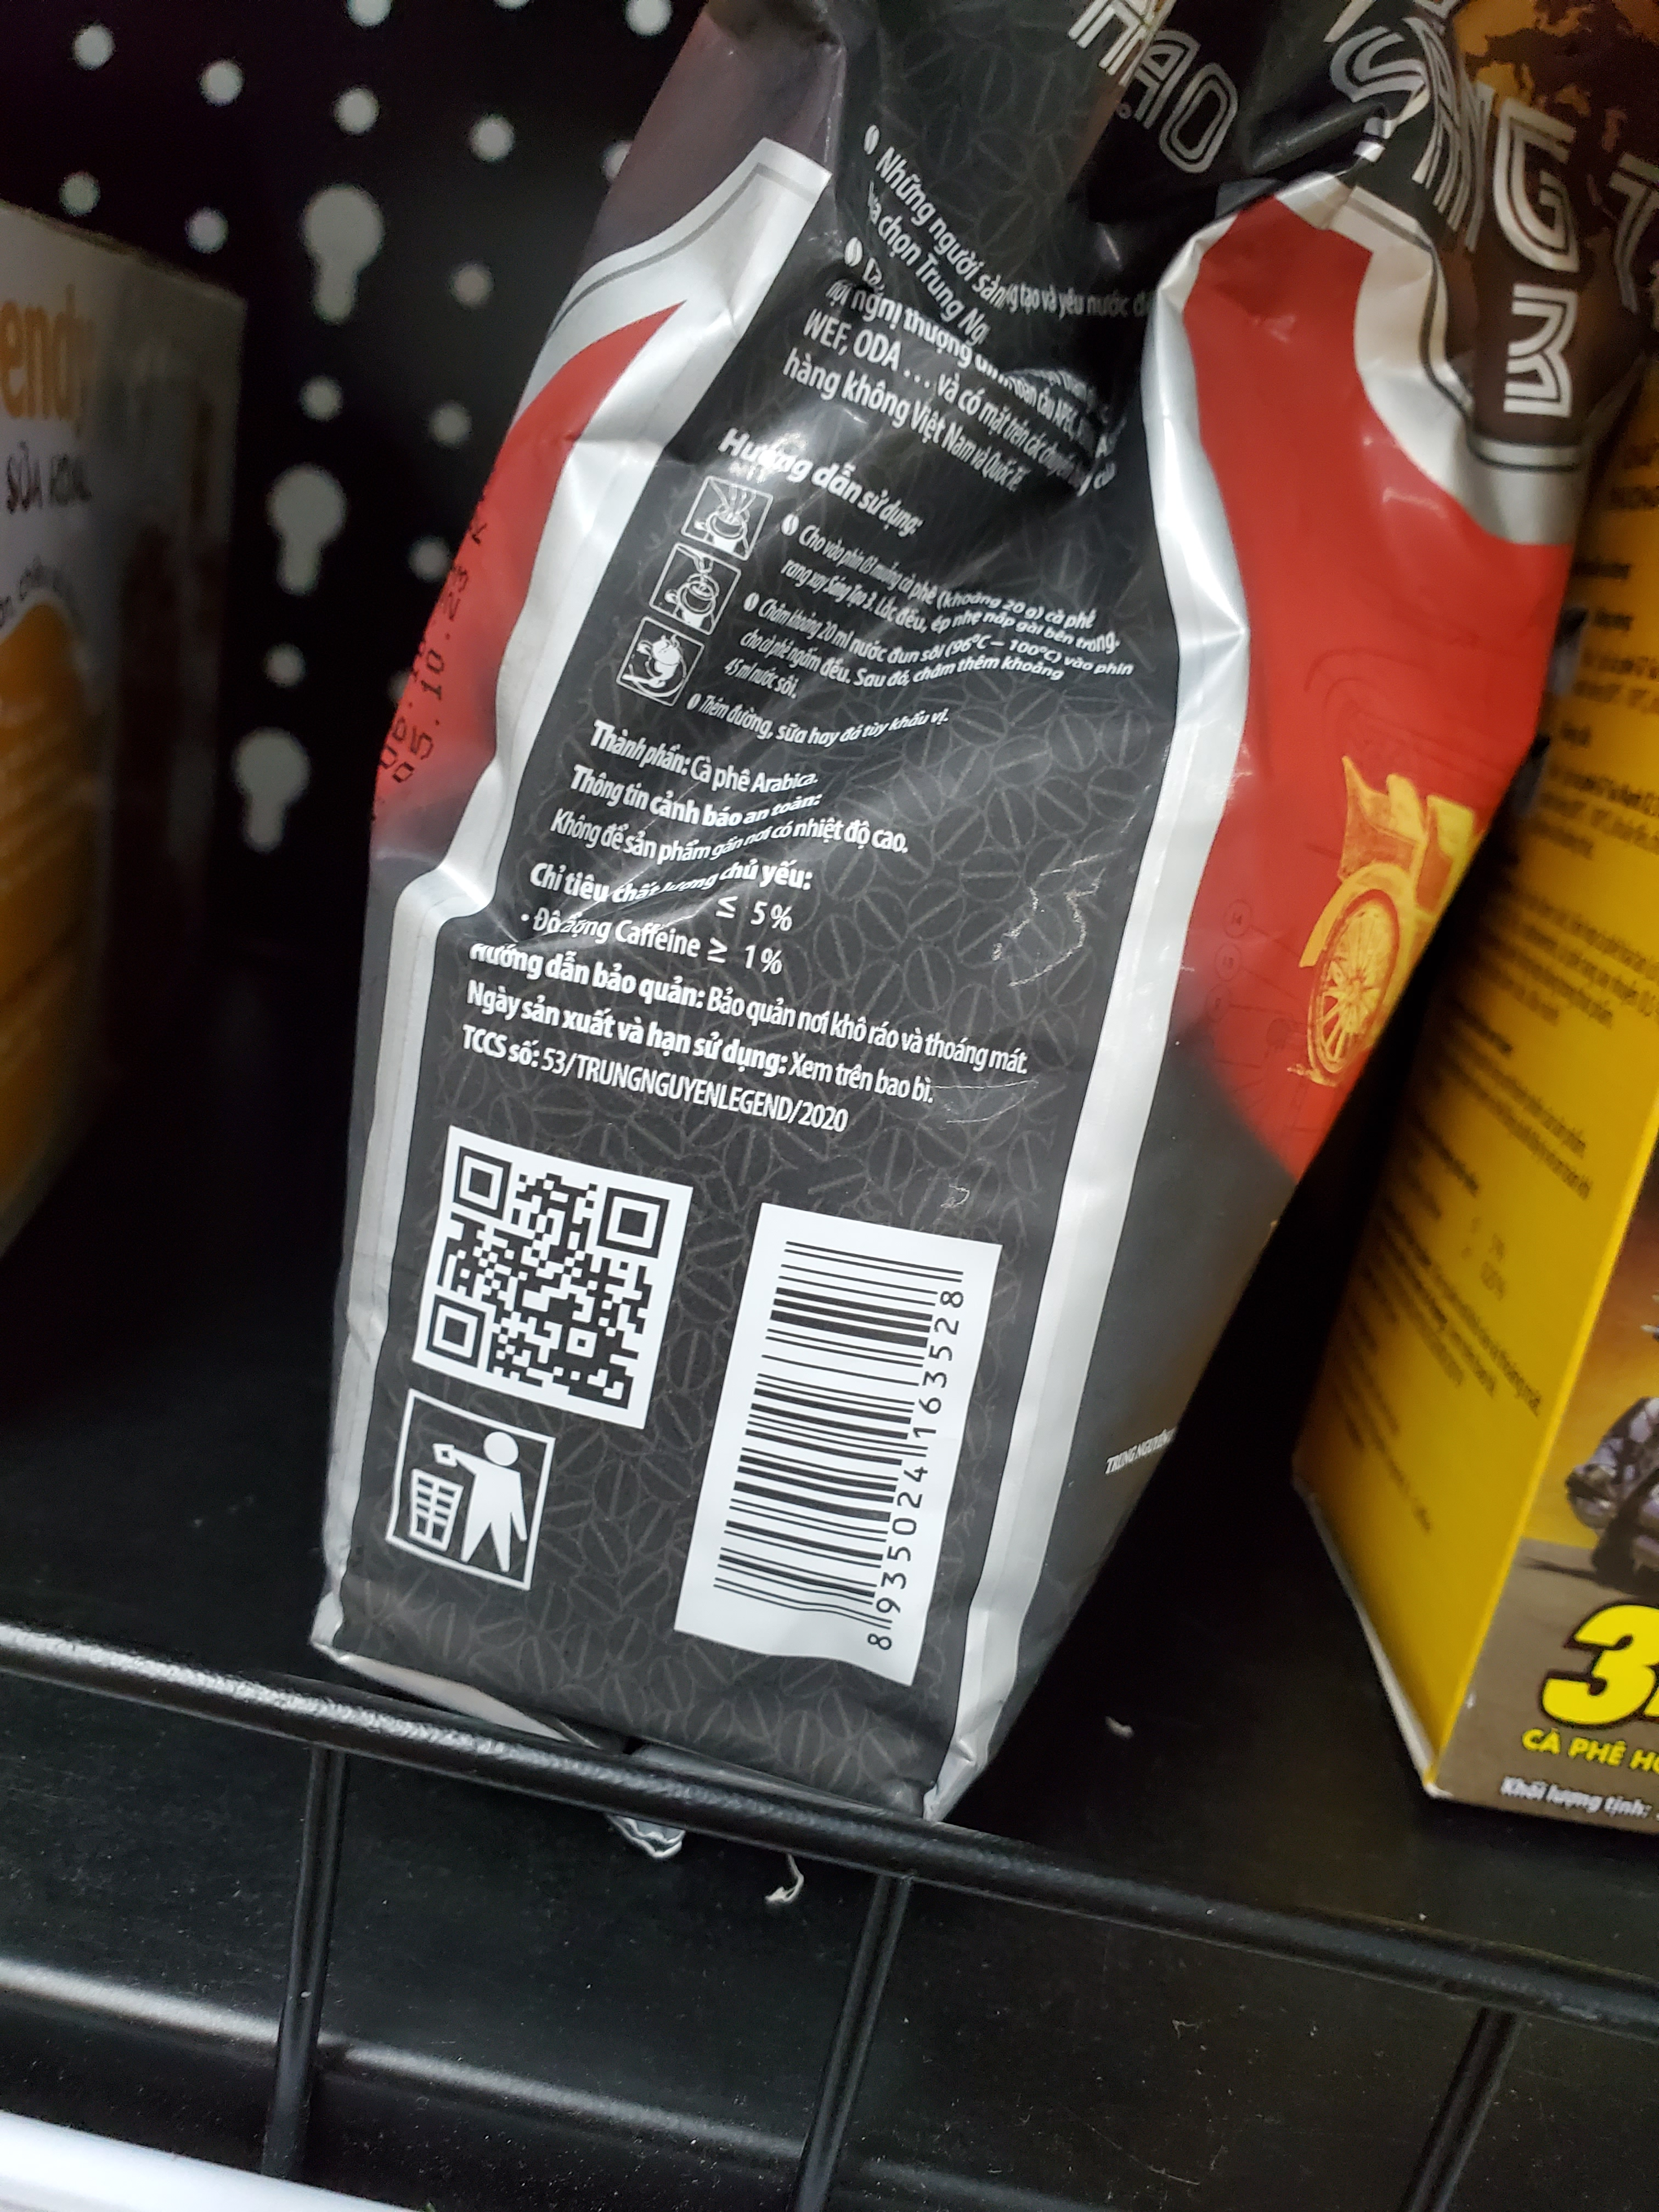barcode: (702, 1179, 979, 1679)
qr code: (390, 1116, 685, 1467)
